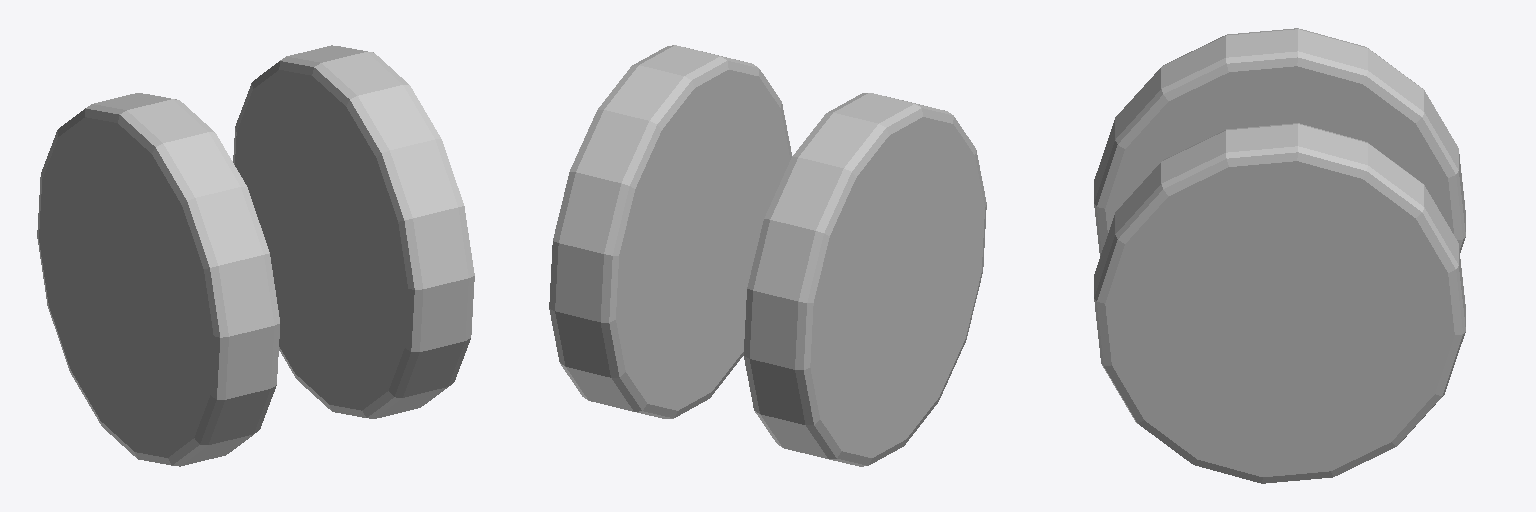
The picture shows the model from 3 angles: view 1: azimuth 30°, elevation 25°; view 2: azimuth 150°, elevation 25°; view 3: azimuth 270°, elevation 25°; orthographic projection.
Parts seen in each view (by area): view 1: part4:wheel 1; view 2: part4:wheel 1; view 3: part4:wheel 1.
Part boxes in pixels (x1,y1,x2,y2): part4:wheel 1: (37, 45, 474, 466); part4:wheel 1: (549, 45, 986, 466); part4:wheel 1: (1094, 28, 1465, 483).
Size of the model in its own units: 0.04 by 0.0495 by 0.0496.